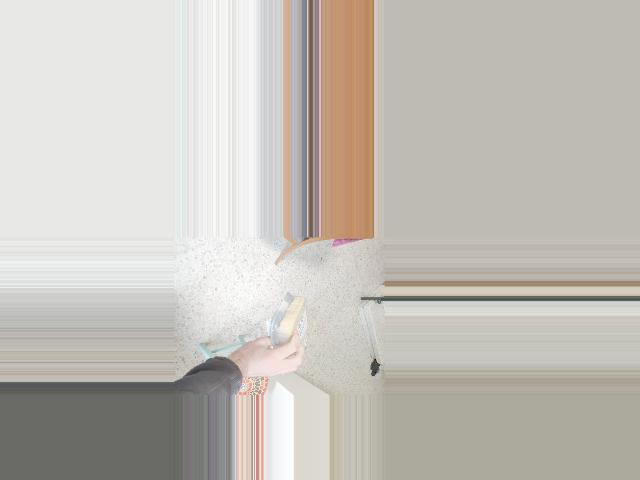cheese: (275, 291, 308, 357)
